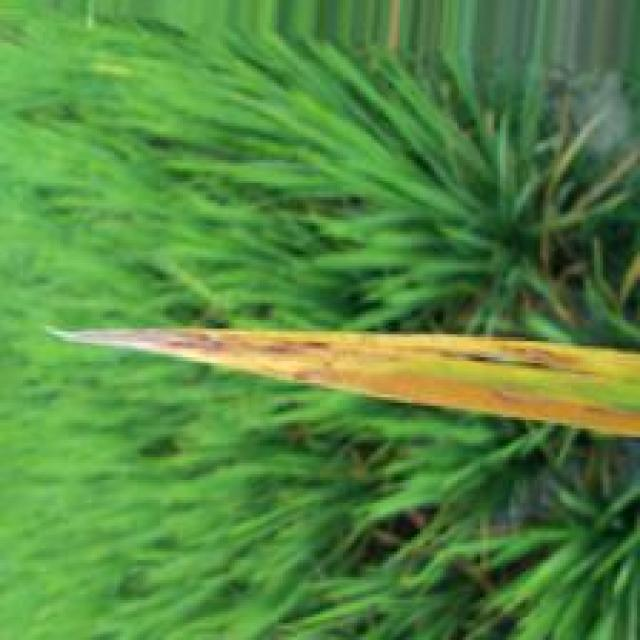Bacterial_Leaf_Blight: (43, 324, 640, 443)
